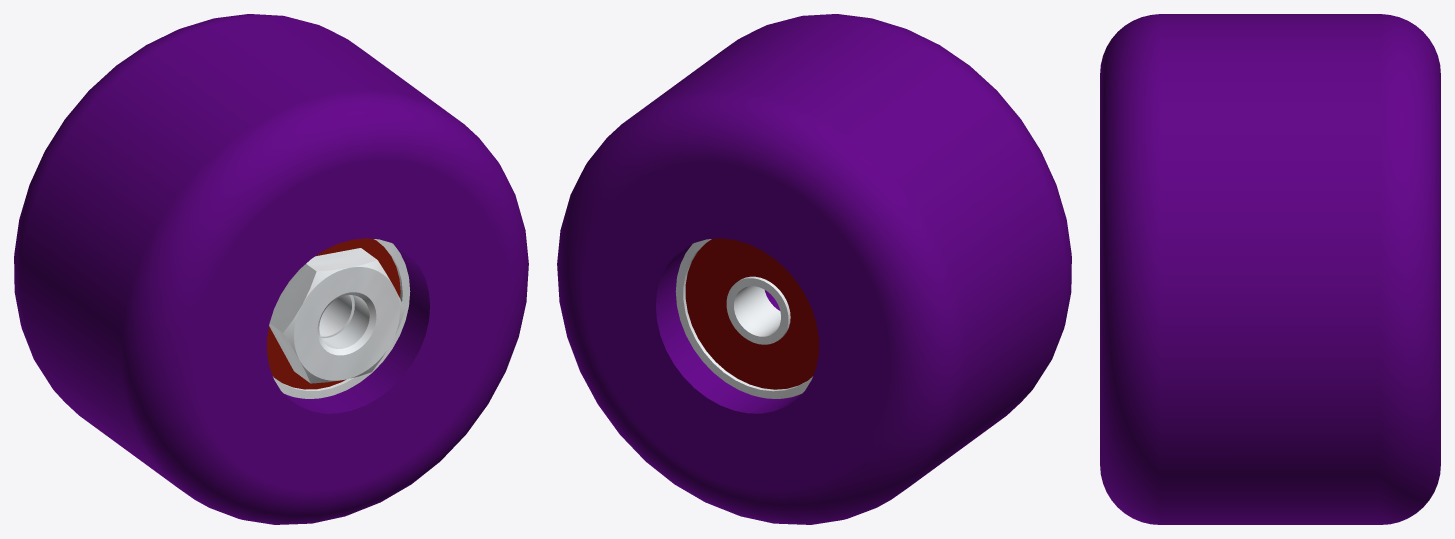
The model's file is Wheel.glb.
The picture shows the model from 3 angles, left to right: view 1: azimuth 30°, elevation 25°; view 2: azimuth 150°, elevation 25°; view 3: azimuth 270°, elevation 25°; orthographic projection. The views are drawn at different scales.
Visible parts, largest first — view 1: Assembly 1; view 2: Assembly 1; view 3: Assembly 1.
Boxes of the visible parts, bbox=[...] form: Assembly 1: bbox=[14, 14, 528, 524]; Assembly 1: bbox=[557, 14, 1071, 524]; Assembly 1: bbox=[1100, 14, 1440, 524].
Size of the model in its own units: 0.8795 by 0.8794 by 0.5865.
4 materials, 1 textured.
